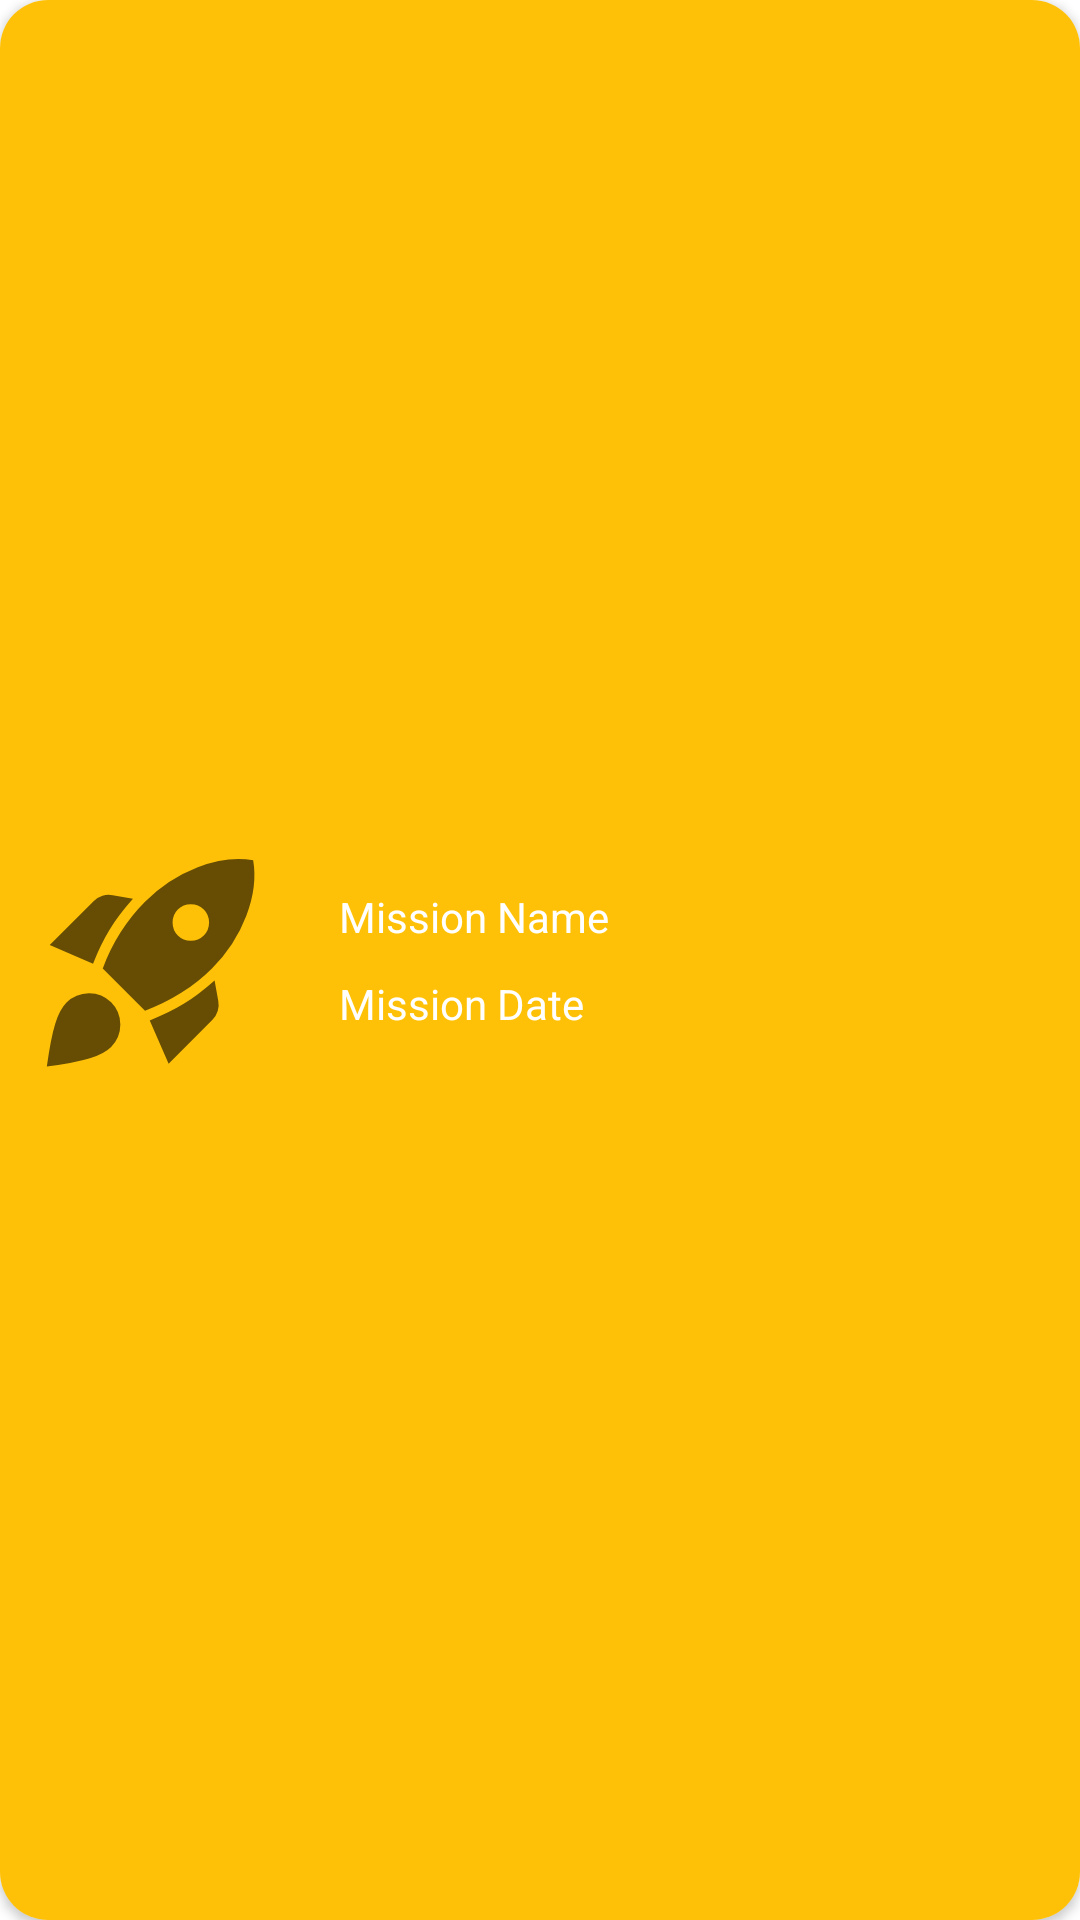

Icons on this 1080 × 1920 Android screen, each with the point to tap as (x,y):
rocket launch: (151,963)
